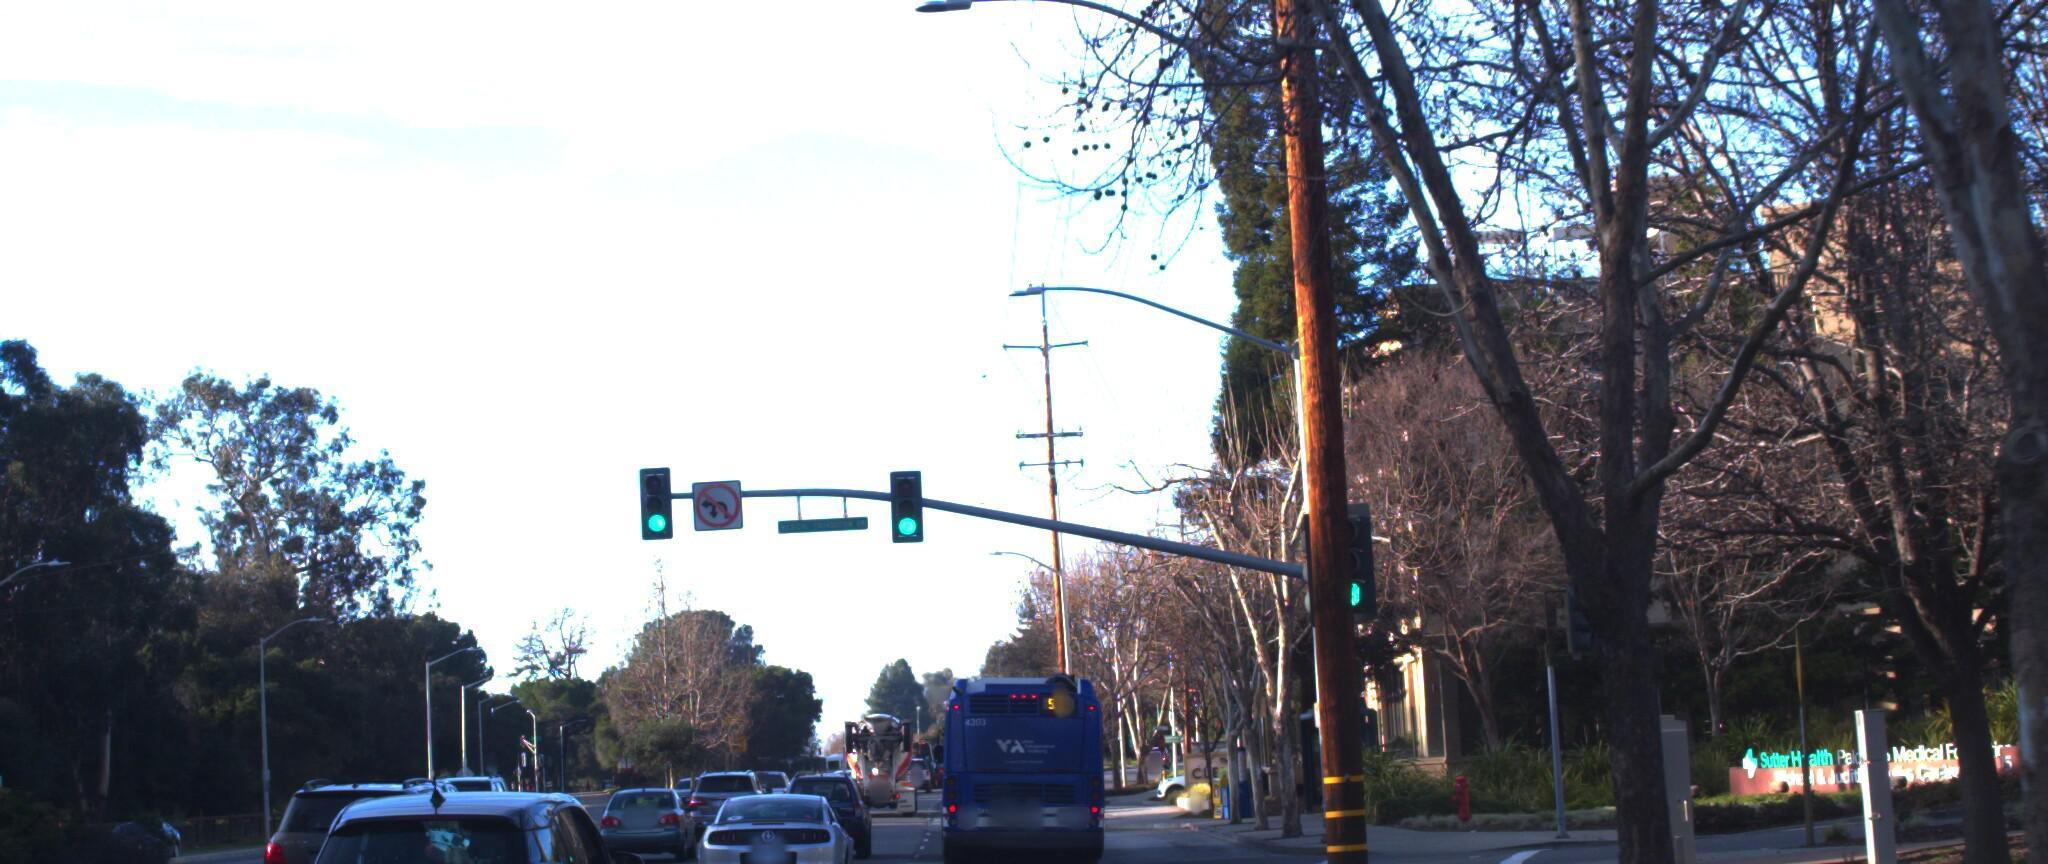bus: (927, 634, 1113, 864)
car: (248, 744, 652, 864), (249, 758, 495, 864), (690, 760, 852, 864), (771, 752, 876, 842), (583, 774, 687, 861), (690, 760, 778, 842)
